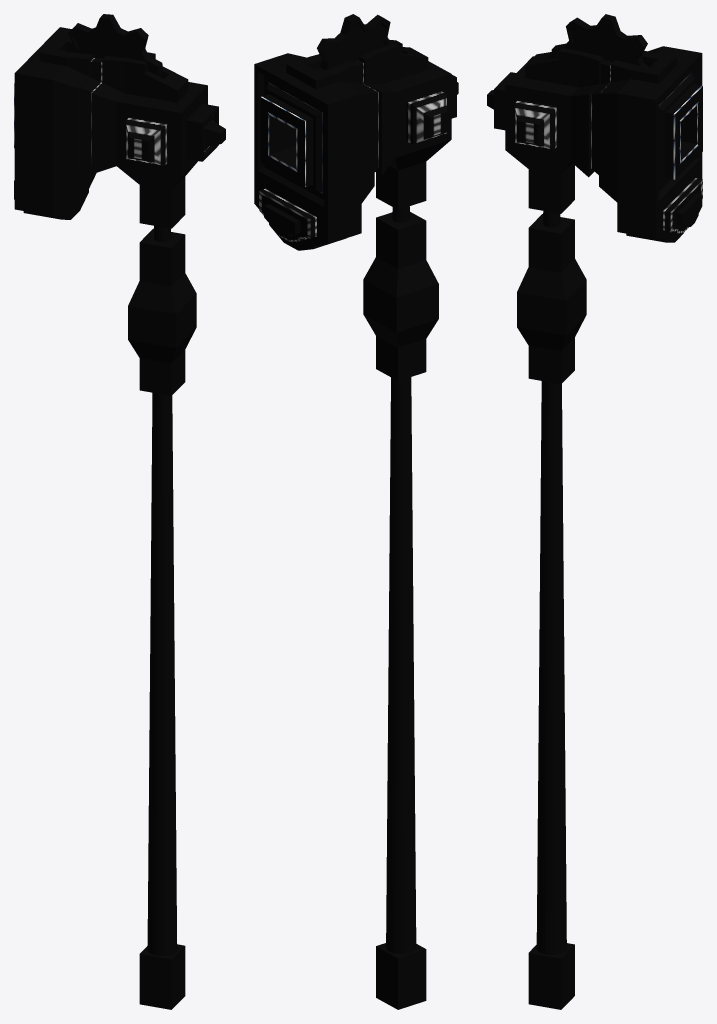
Rendered from Dispenser_2_0.fbx.
3 views of the same model, side by side, from view 1: azimuth 90°, elevation 25°; view 2: azimuth 150°, elevation 25°; view 3: azimuth 270°, elevation 25° (orthographic). The views are drawn at different scales.
Parts seen in each view (by area): view 1: Dispenser, Dispenser_Prop_0, Dispenser_Prop_1, Gear; view 2: Dispenser, Dispenser_Prop_0, Dispenser_Prop_1, Gear; view 3: Dispenser, Dispenser_Prop_0, Dispenser_Prop_1, Gear.
Boxes of the visible parts, x1,y1,x2,y2 form: Dispenser: [14, 27, 225, 219]; Dispenser_Prop_0: [139, 177, 185, 1009]; Dispenser_Prop_1: [128, 228, 196, 395]; Gear: [68, 14, 163, 76]; Dispenser: [254, 43, 458, 250]; Dispenser_Prop_0: [376, 161, 426, 1009]; Dispenser_Prop_1: [363, 212, 438, 380]; Gear: [317, 14, 403, 71]; Dispenser: [487, 41, 702, 242]; Dispenser_Prop_0: [528, 163, 574, 1009]; Dispenser_Prop_1: [517, 214, 586, 384]; Gear: [551, 14, 648, 67].
Size of the model in its own units: 1.4 by 9.08 by 1.79.
1 material, 1 textured.
